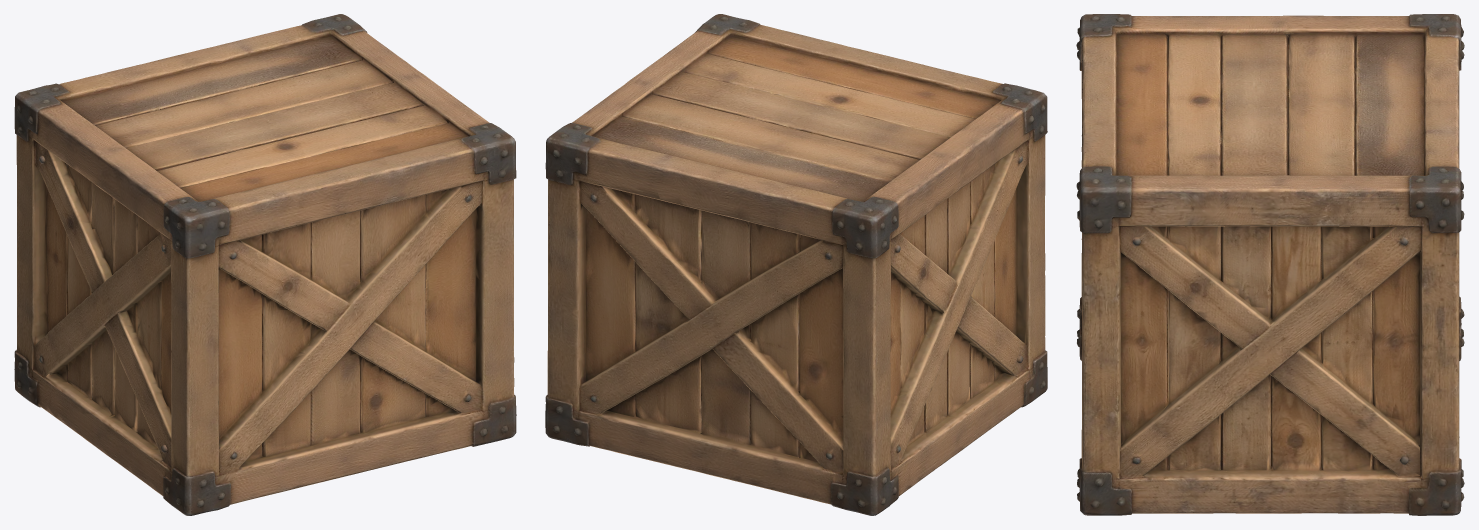
The model's file is crate.hd.glb.
3 views of the same model, side by side, from view 1: azimuth 30°, elevation 25°; view 2: azimuth 150°, elevation 25°; view 3: azimuth 270°, elevation 25° (orthographic). The views are drawn at different scales.
Visible parts, largest first — view 1: tripo_node_6bb3cd77-2008-4abe-96fb-486569e49719; view 2: tripo_node_6bb3cd77-2008-4abe-96fb-486569e49719; view 3: tripo_node_6bb3cd77-2008-4abe-96fb-486569e49719.
Boxes of the visible parts, x1=… form: tripo_node_6bb3cd77-2008-4abe-96fb-486569e49719: x1=14, y1=14, x2=516, y2=515; tripo_node_6bb3cd77-2008-4abe-96fb-486569e49719: x1=545, y1=14, x2=1047, y2=515; tripo_node_6bb3cd77-2008-4abe-96fb-486569e49719: x1=1076, y1=14, x2=1464, y2=515.
Size of the model in its own units: 0.6948 by 0.6 by 0.6329.
Materials: 1 (1 with a texture image).
